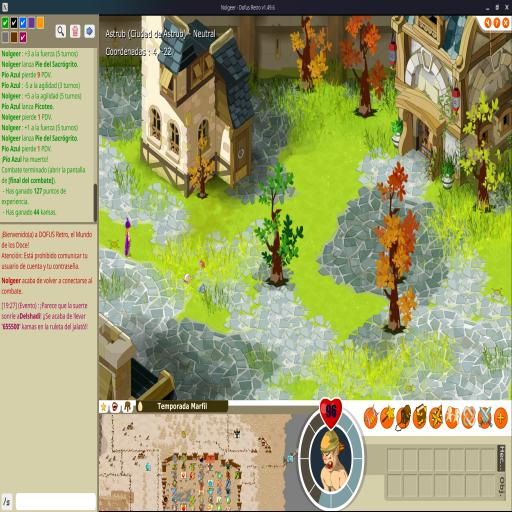Enemigos: (198, 283, 206, 294), (198, 259, 206, 269)
Personaje: (122, 216, 134, 262)
